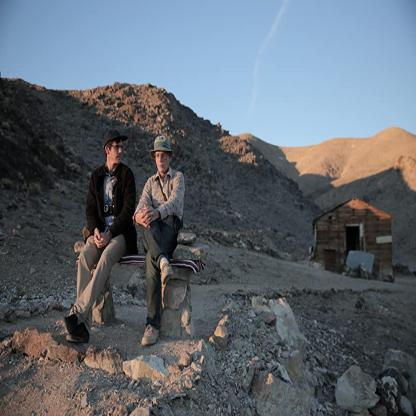person: (54, 122, 138, 350), (138, 130, 185, 345)
